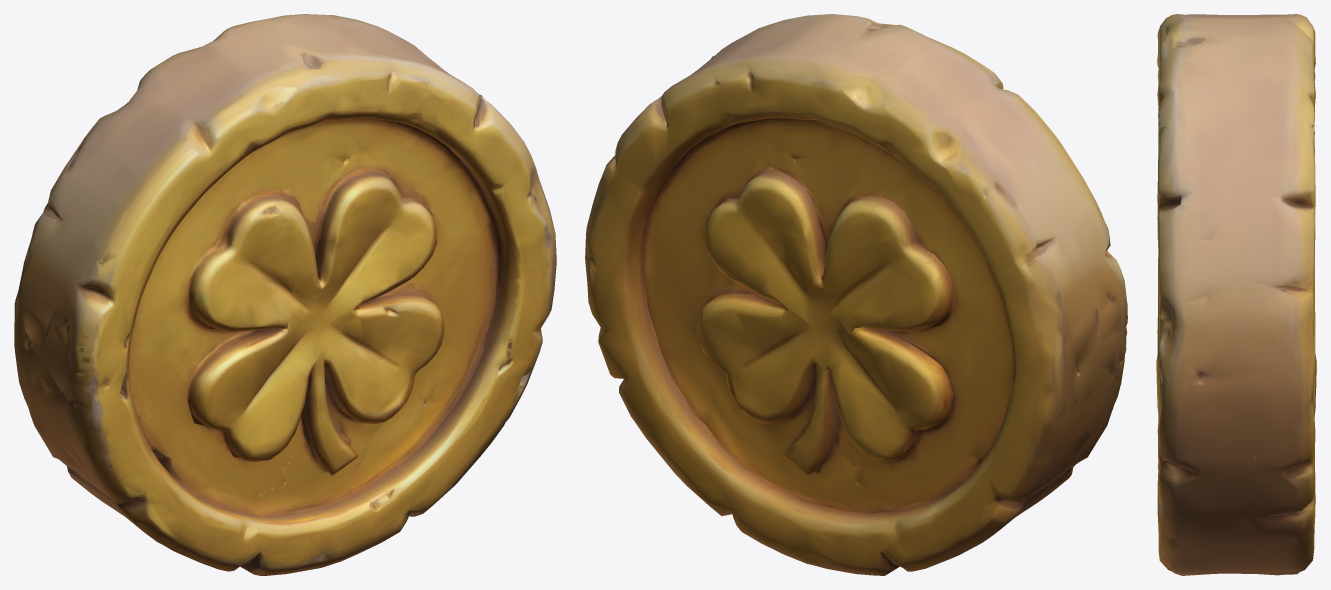
The model's file is coin.glb.
3 views of the same model, side by side, from view 1: azimuth 30°, elevation 25°; view 2: azimuth 150°, elevation 25°; view 3: azimuth 270°, elevation 25° (orthographic).
Parts seen in each view (by area): view 1: tripo_part_0, tripo_part_1, tripo_part_2, tripo_part_10, tripo_part_3, tripo_part_4, tripo_part_6; view 2: tripo_part_0, tripo_part_8, tripo_part_9, tripo_part_5, tripo_part_11, tripo_part_7, tripo_part_12; view 3: tripo_part_0.
Boxes of the visible parts, x1,y1,x2,y2 form: tripo_part_0: (14, 14, 556, 575); tripo_part_1: (129, 118, 498, 515); tripo_part_2: (188, 195, 326, 331); tripo_part_10: (188, 312, 322, 461); tripo_part_3: (315, 171, 436, 330); tripo_part_4: (313, 292, 444, 423); tripo_part_6: (301, 350, 357, 475); tripo_part_0: (585, 14, 1127, 575); tripo_part_8: (639, 118, 1011, 513); tripo_part_9: (821, 195, 956, 333); tripo_part_5: (704, 167, 833, 332); tripo_part_11: (816, 315, 953, 461); tripo_part_7: (696, 293, 820, 424); tripo_part_12: (783, 362, 837, 475); tripo_part_0: (1156, 14, 1316, 575).
Bounding box in the file's own units: 0.979 × 0.9778 × 0.2779.
1 material, 1 textured.
